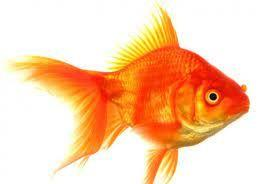Gold Fish: (7, 9, 255, 183)
